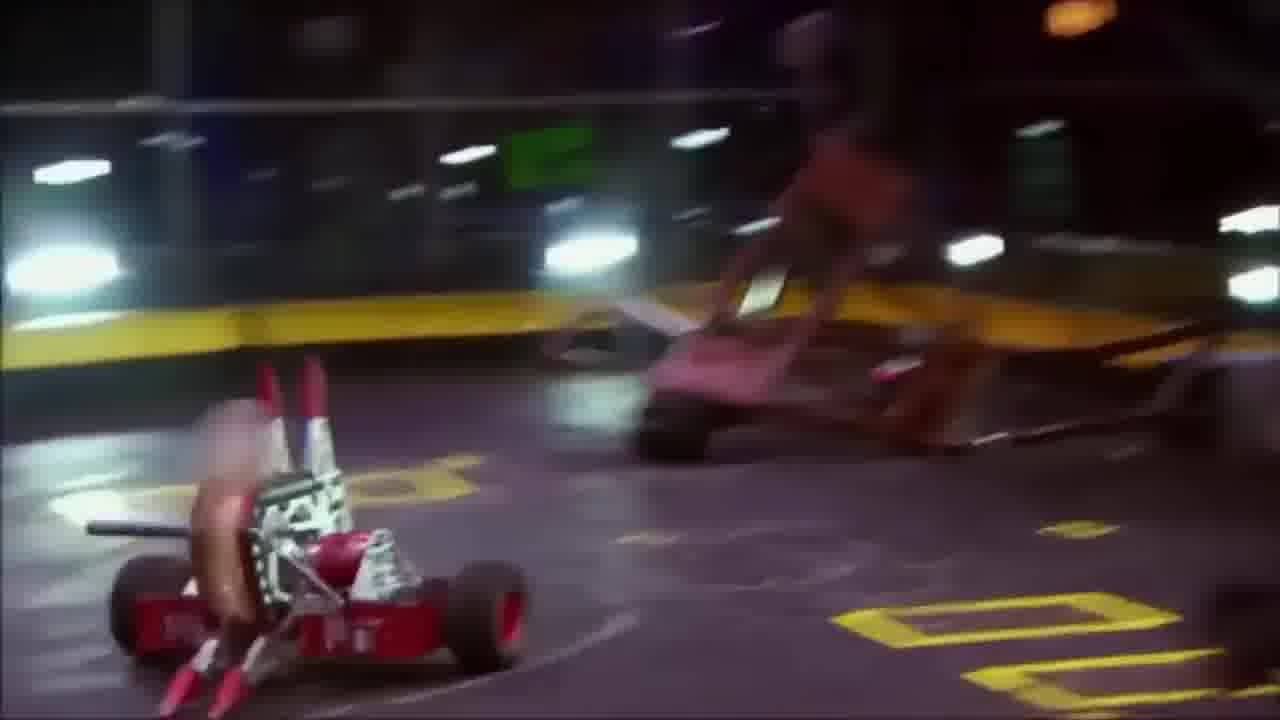combatbot: (546, 144, 1280, 461), (85, 358, 535, 719)
